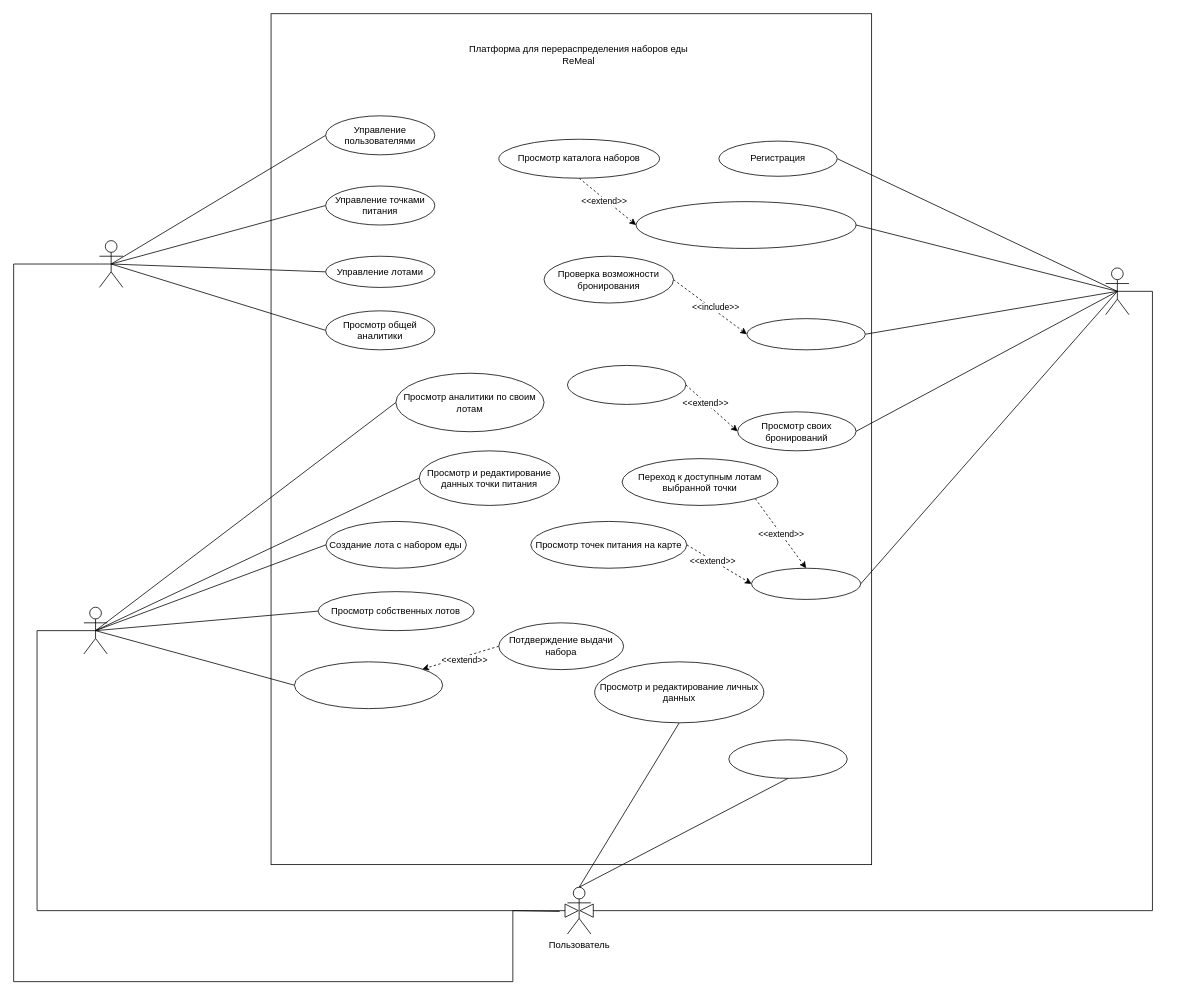
Some shapes in this 1180 by 996 pixel diagram are drawn without their labels. Each missing label, with the centre of its shape:
Авторизация: the point at 787,758
Администратор: the point at 111,263
Бронирование набора: the point at 805,334
Выбор точки питания: the point at 806,583
Отмена бронирования: the point at 626,384
Покупатель: the point at 1117,291
Представитель т очки питания: the point at 95,630
Просмотр бронирований по собственным лотам: the point at 368,685
Просмотр информации о лоте и точке питания: the point at 745,224
